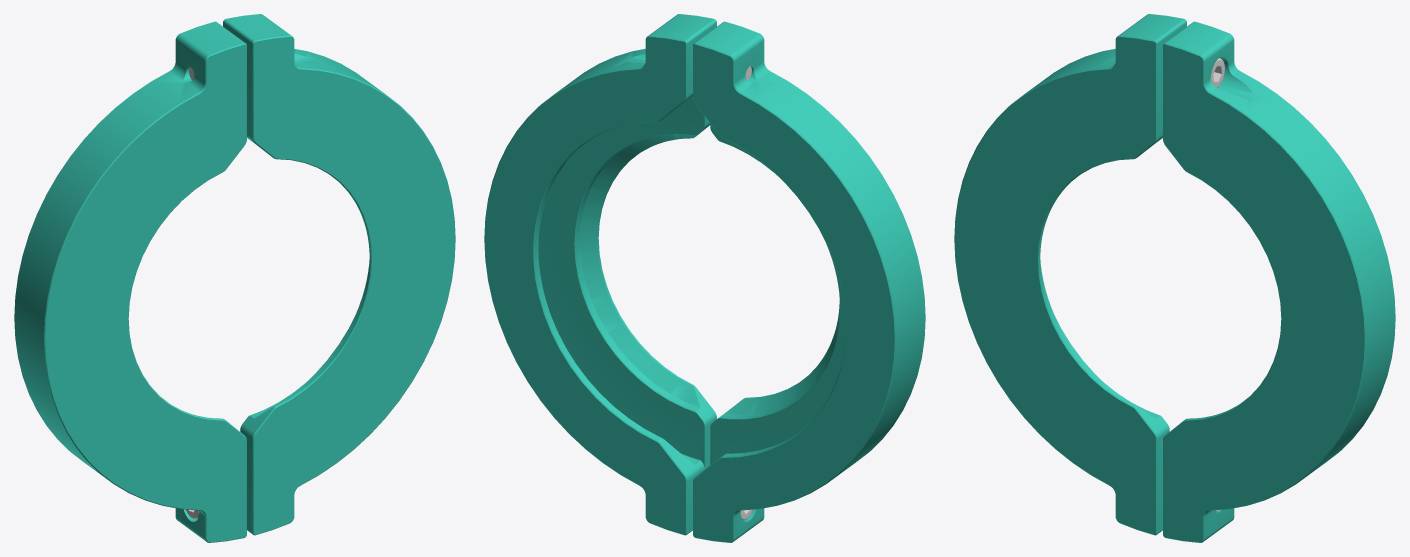
3 views of the same model, side by side, from view 1: azimuth 30°, elevation 25°; view 2: azimuth 150°, elevation 25°; view 3: azimuth 330°, elevation 25° (orthographic).
Parts seen in each view (by area): view 1: C148-116; view 2: C148-116; view 3: C148-116.
Boxes of the visible parts, x1=… form: C148-116: x1=14, y1=14, x2=455, y2=542; C148-116: x1=484, y1=14, x2=925, y2=542; C148-116: x1=954, y1=14, x2=1395, y2=542.
Bounding box in the file's own units: 0.148 × 0.17 × 0.019.
